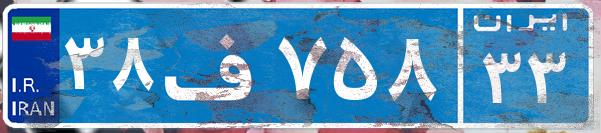3: (57, 26, 110, 107), (475, 38, 525, 113), (525, 38, 570, 115)
5: (330, 28, 385, 110)
7: (273, 28, 330, 110)
8: (385, 28, 445, 110), (110, 28, 158, 105)
ف: (158, 15, 273, 115)
